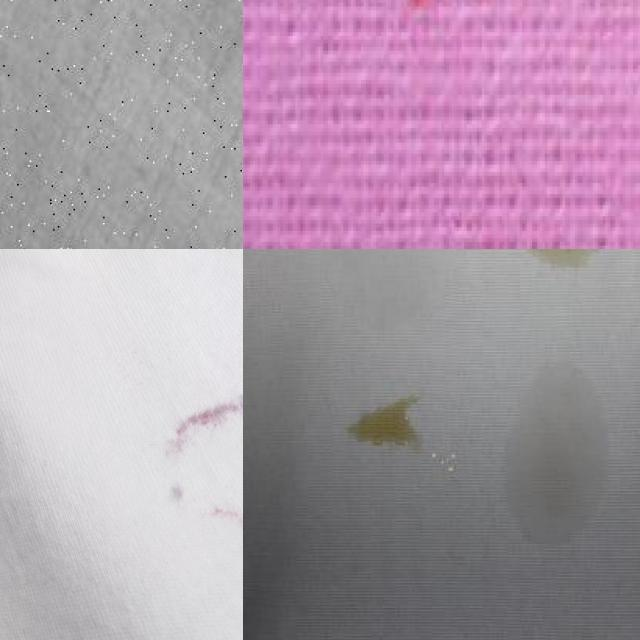Hole: (463, 339, 640, 587), (114, 271, 243, 547), (313, 373, 443, 465), (465, 249, 635, 300)
